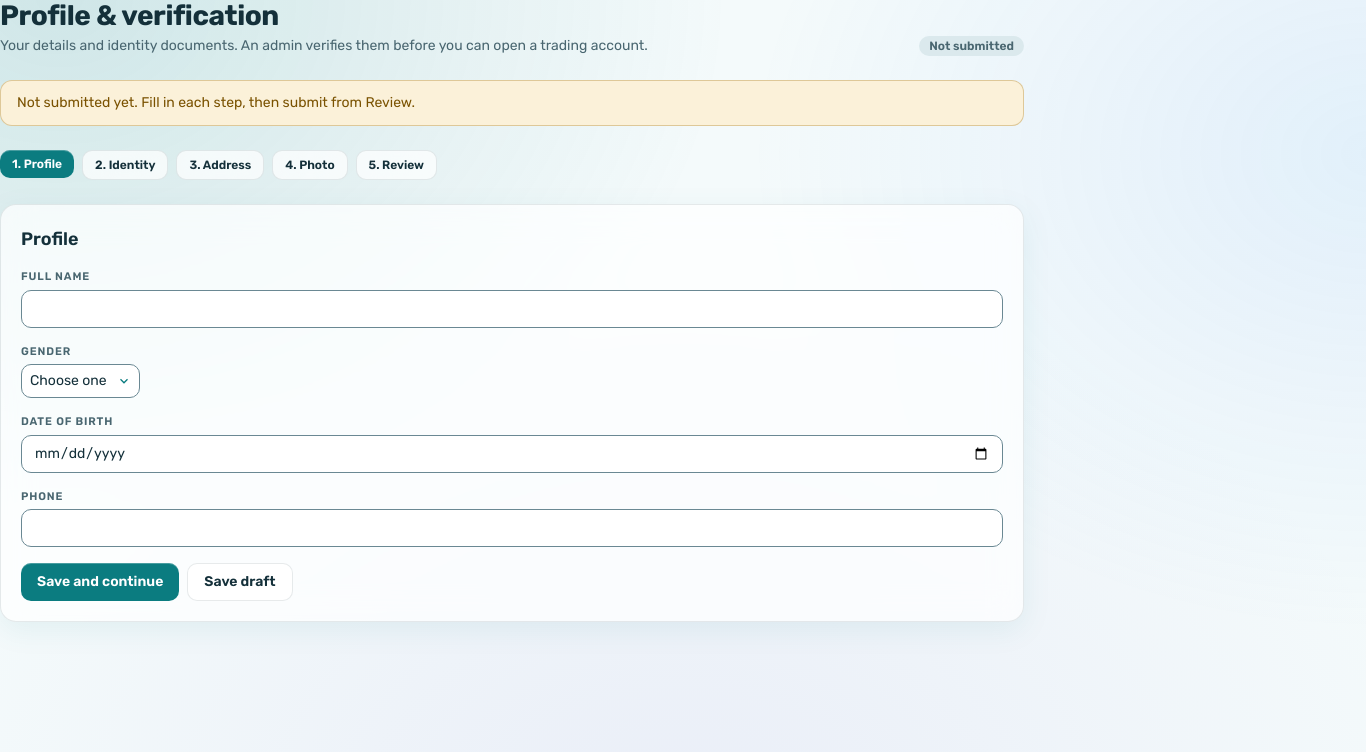
Save and continue sends only the changed fields of the step and moves on
Type "Ada Lovelace" into the field labelled "Full name" at (512, 309), box [21, 290, 1003, 328]
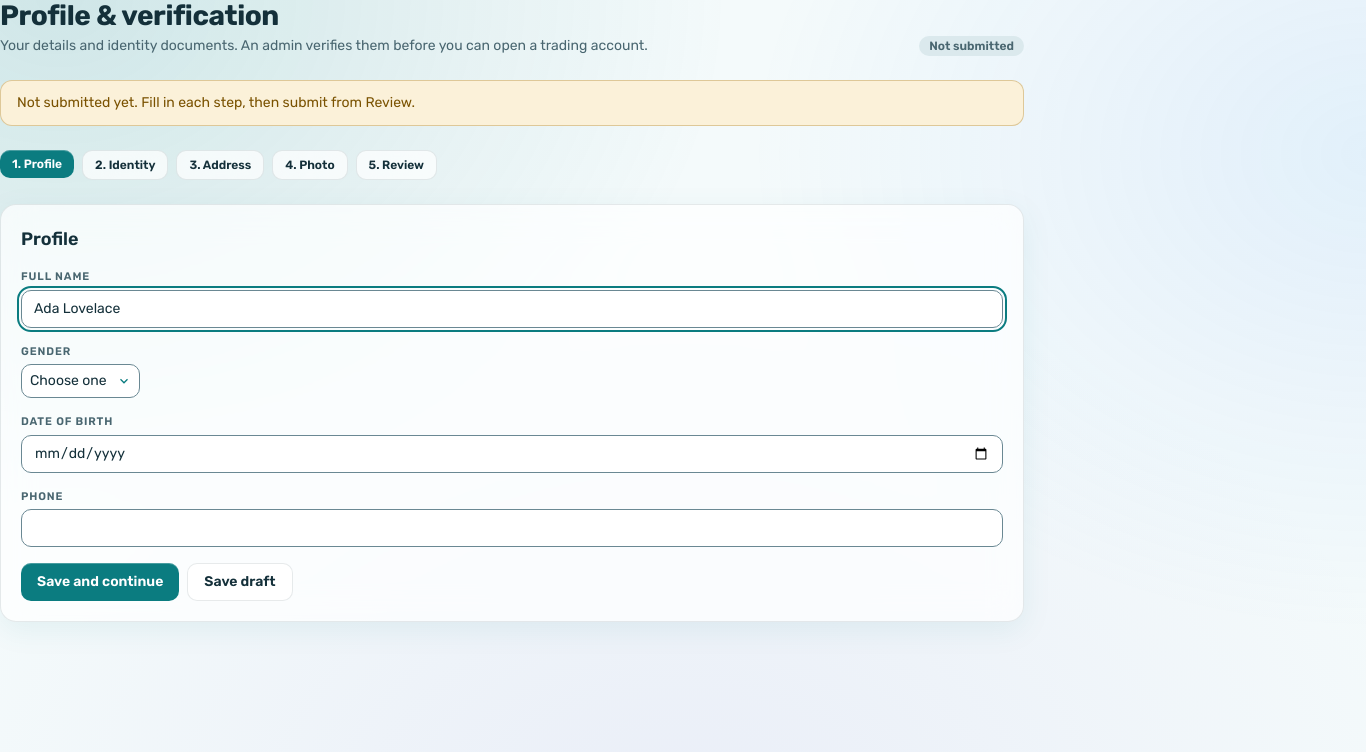
Select "Female" in the dropdown labelled "Gender" at (80, 381), box [21, 364, 140, 398]
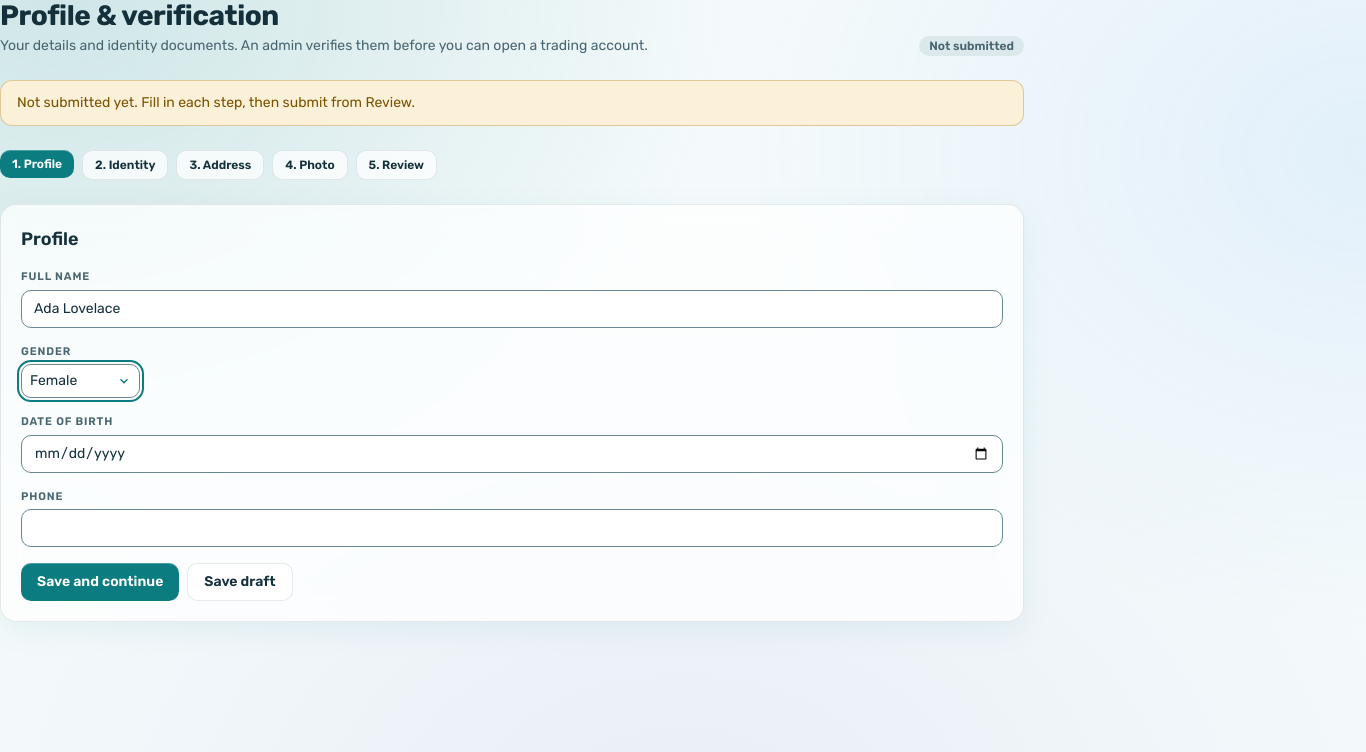
Type "1990-04-02" into the date field labelled "Date of birth" at (512, 454), box [21, 435, 1003, 473]
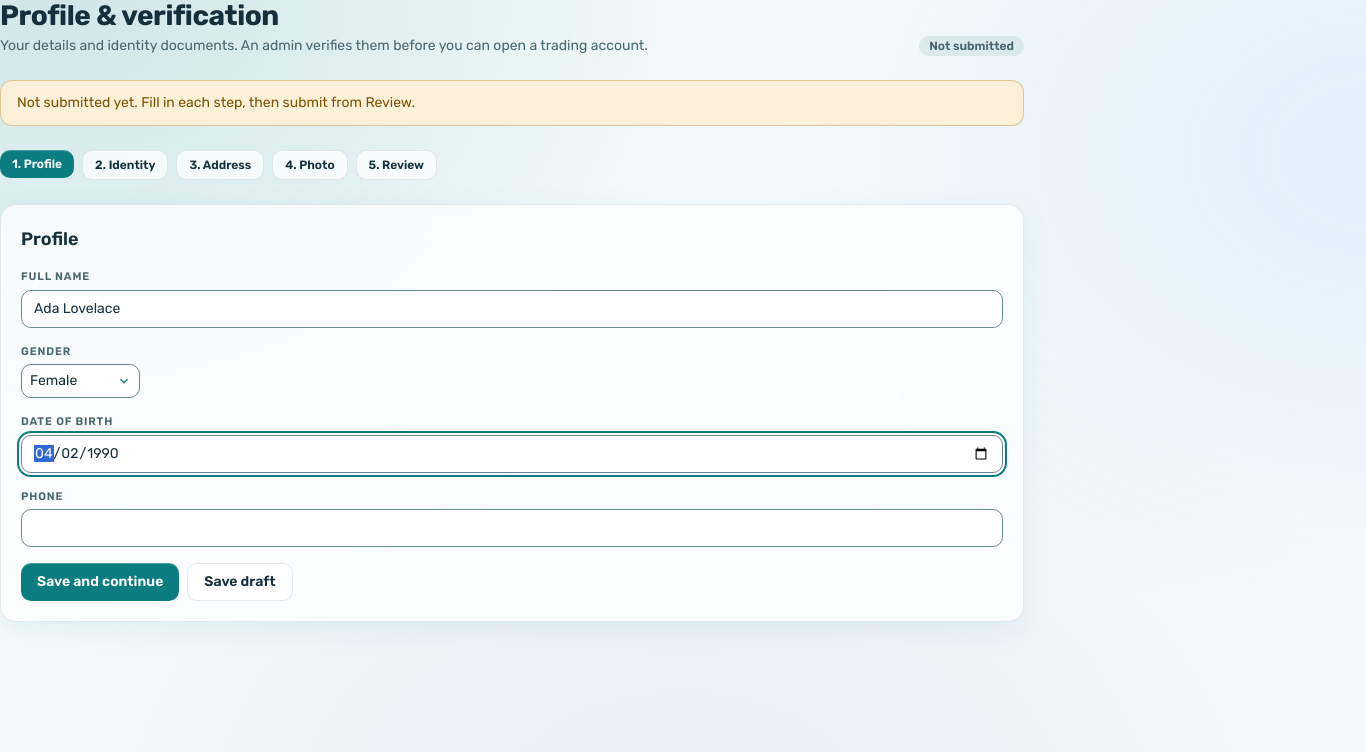
Type "+44 20 1234" into the field labelled "Phone" at (512, 528), box [21, 509, 1003, 547]
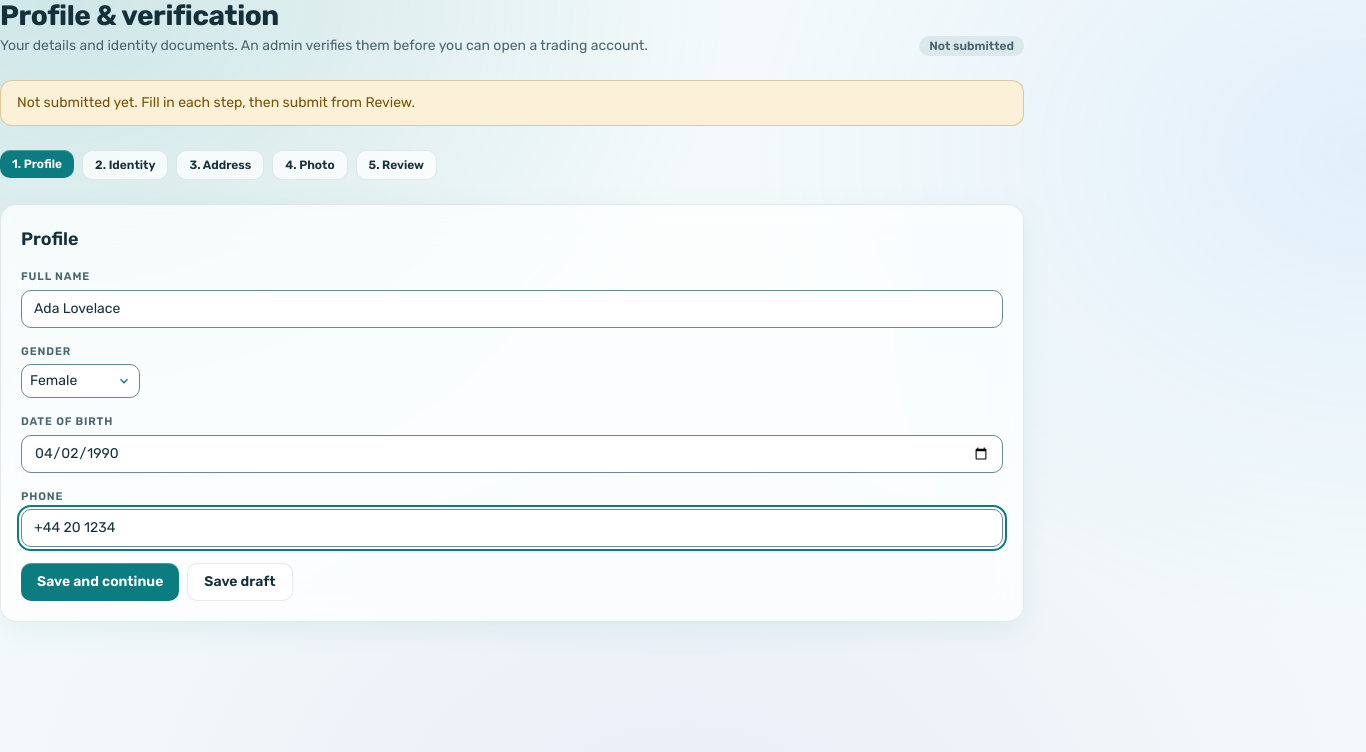
Click the button "Save and continue" at (100, 582), box [21, 563, 179, 601]
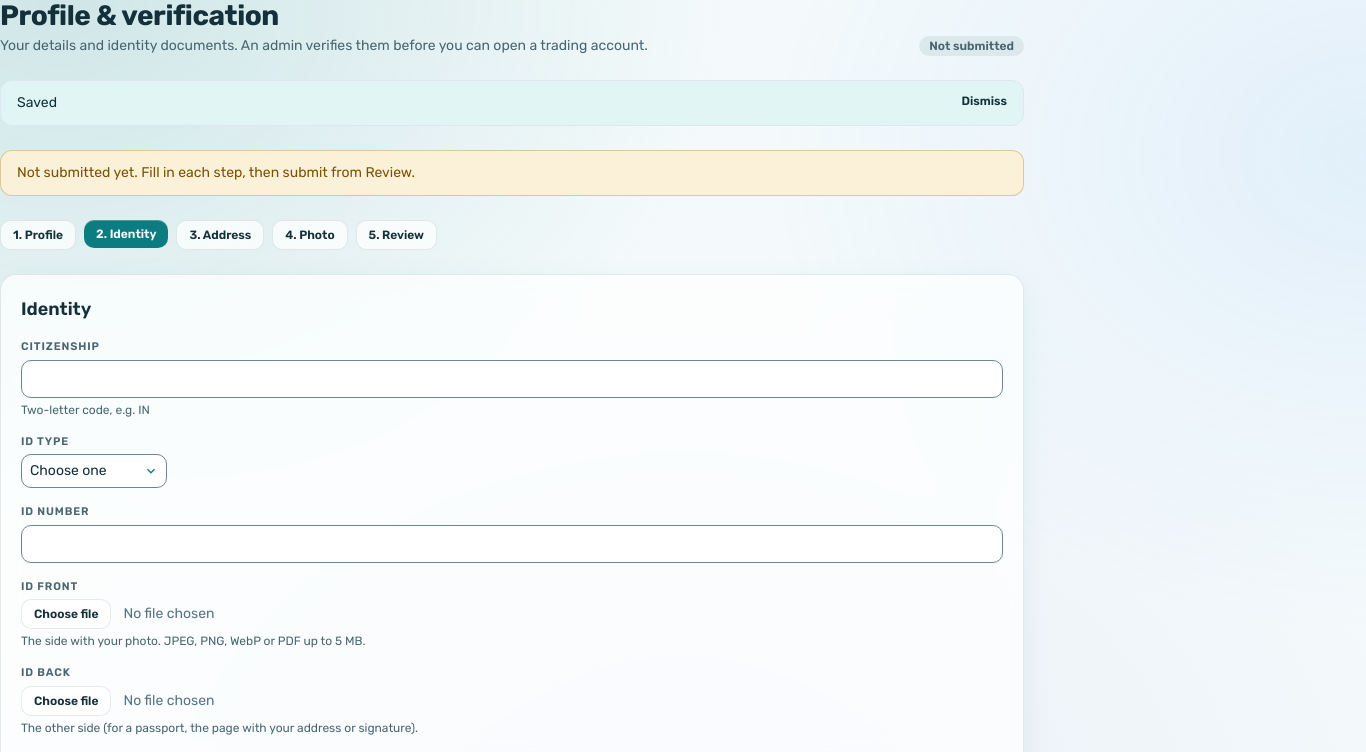
Check: the text "Saved" is shown, box [17, 93, 57, 113]
